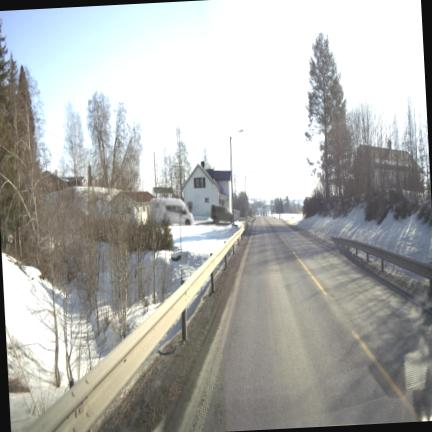Road: (189, 217, 431, 431)
